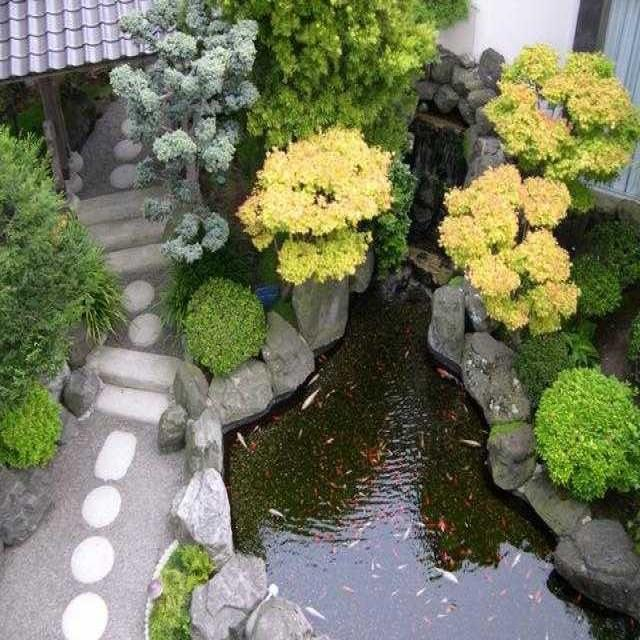Ponds: (192, 73, 640, 640)
